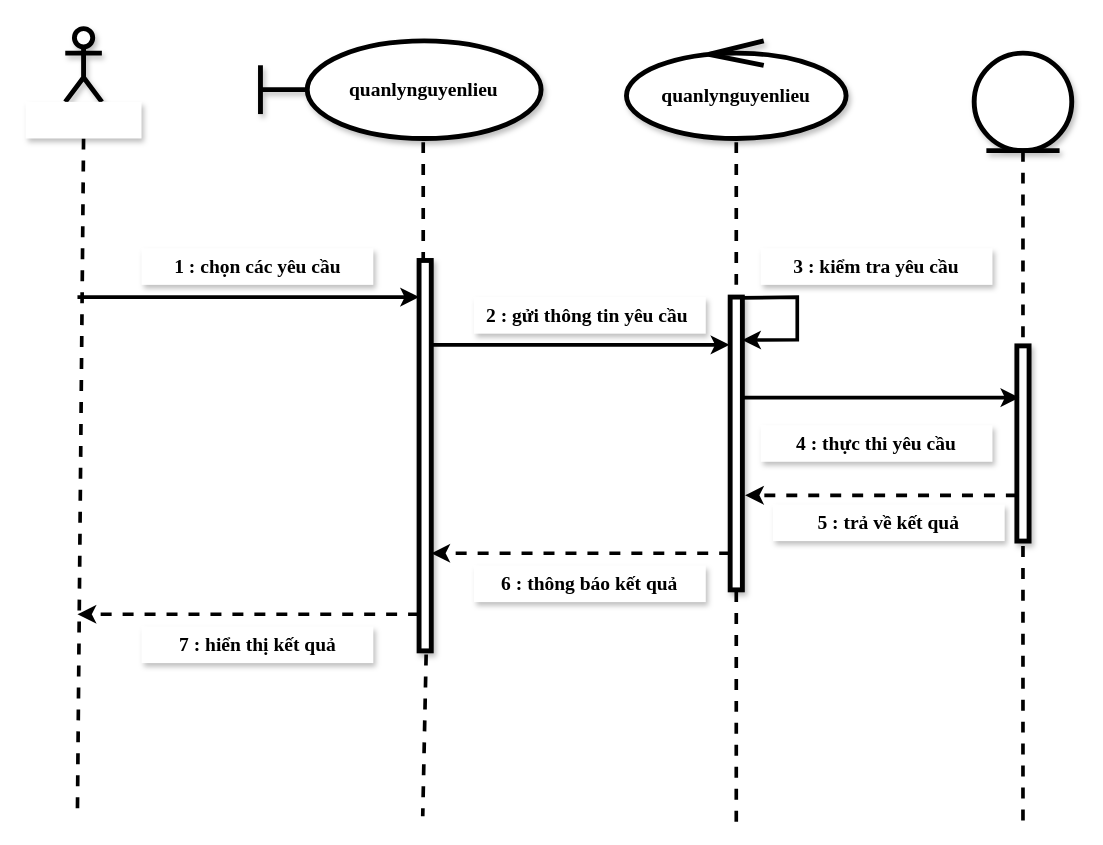
Some shapes in this 1103 by 845 pixel diagram are drawn without their labels. The centre of each missing label's shape, as x and y in pixels:
Actor: (x=84, y=66)
admin: (x=84, y=121)
csdl: (x=1023, y=103)
